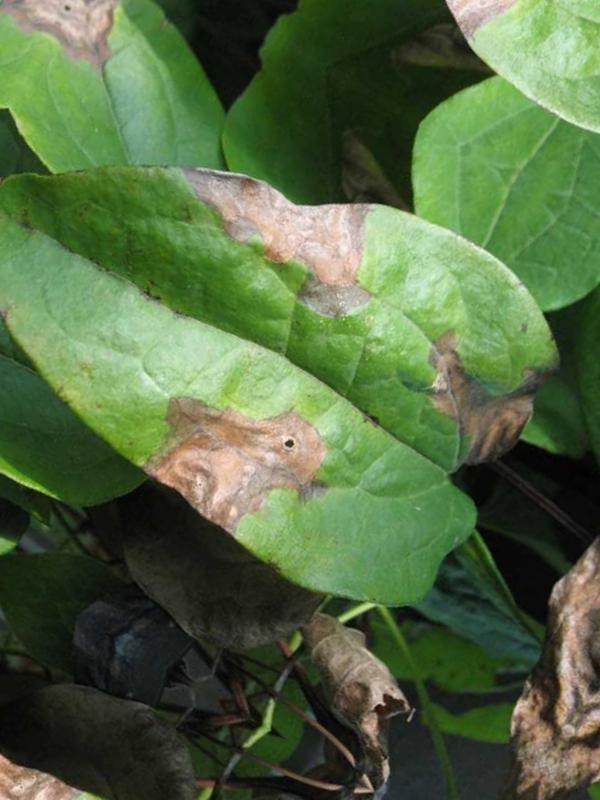Tomato leaf bacterial spot: (0, 2, 600, 648)
